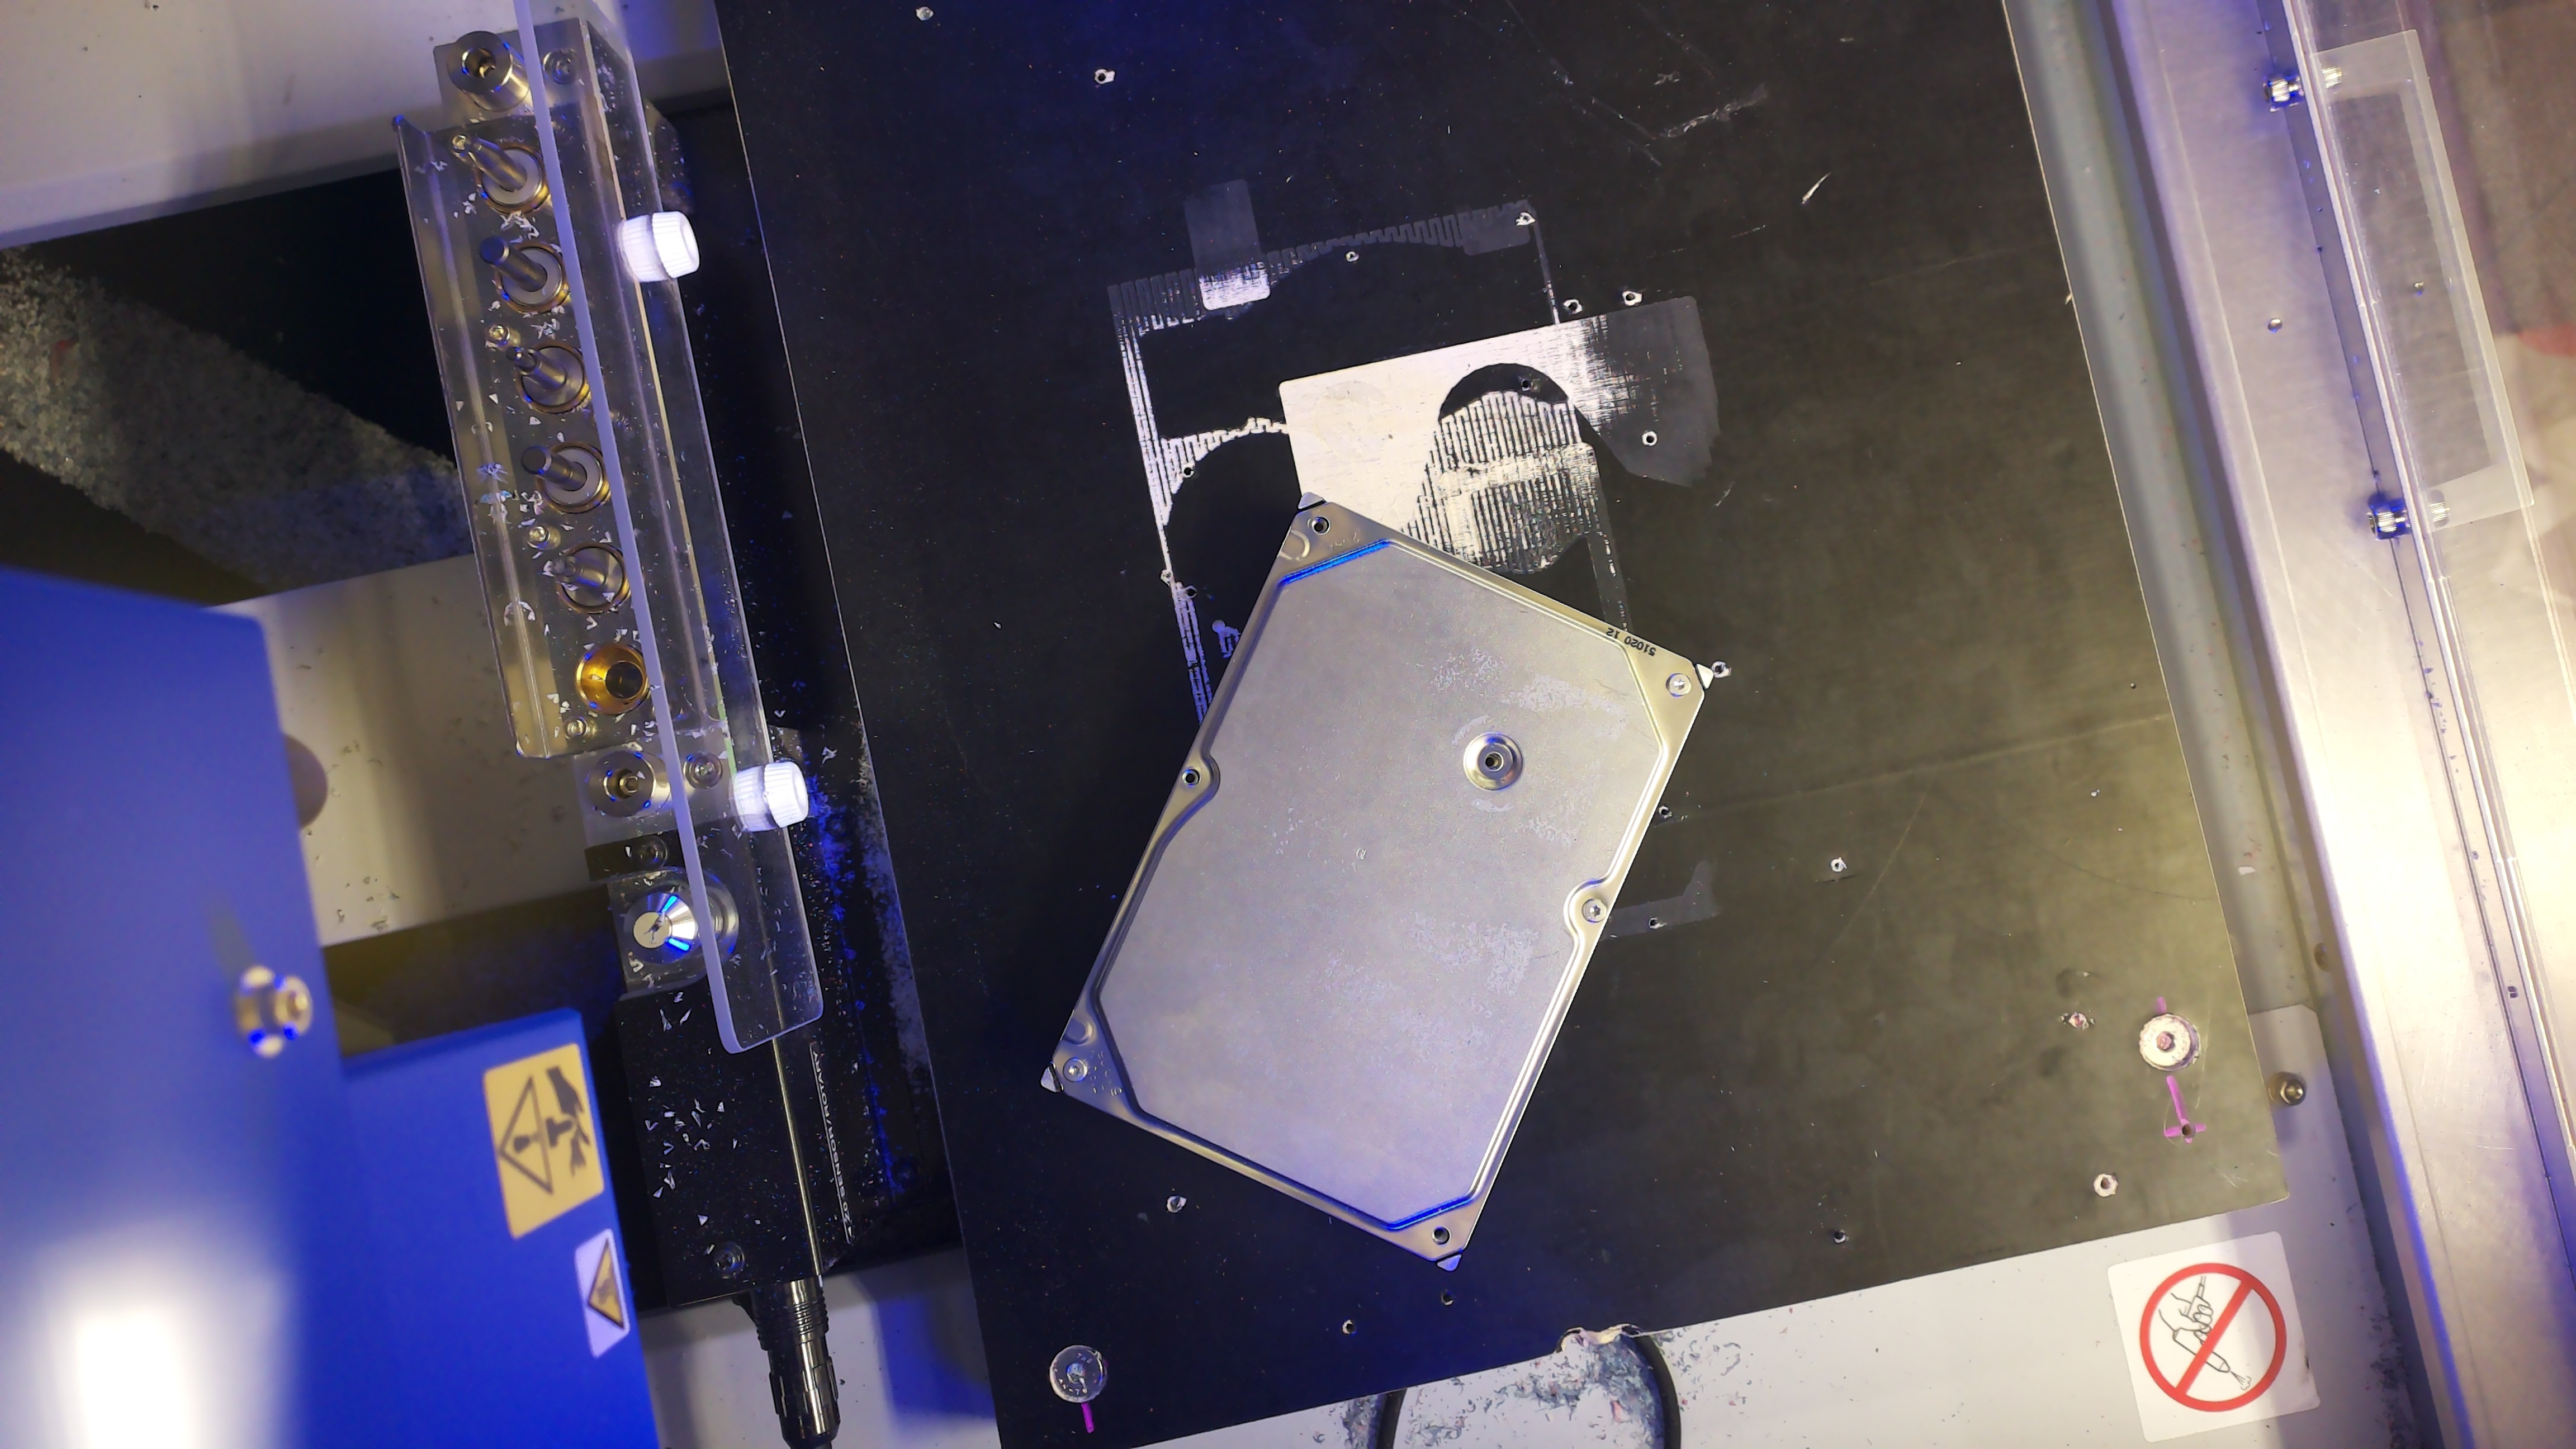Hole: (1484, 751, 1504, 772), (1432, 1225, 1450, 1246), (1311, 516, 1330, 534), (1182, 769, 1200, 787)
Screw: (1581, 898, 1606, 923), (1666, 673, 1692, 697), (1063, 1057, 1087, 1081)
